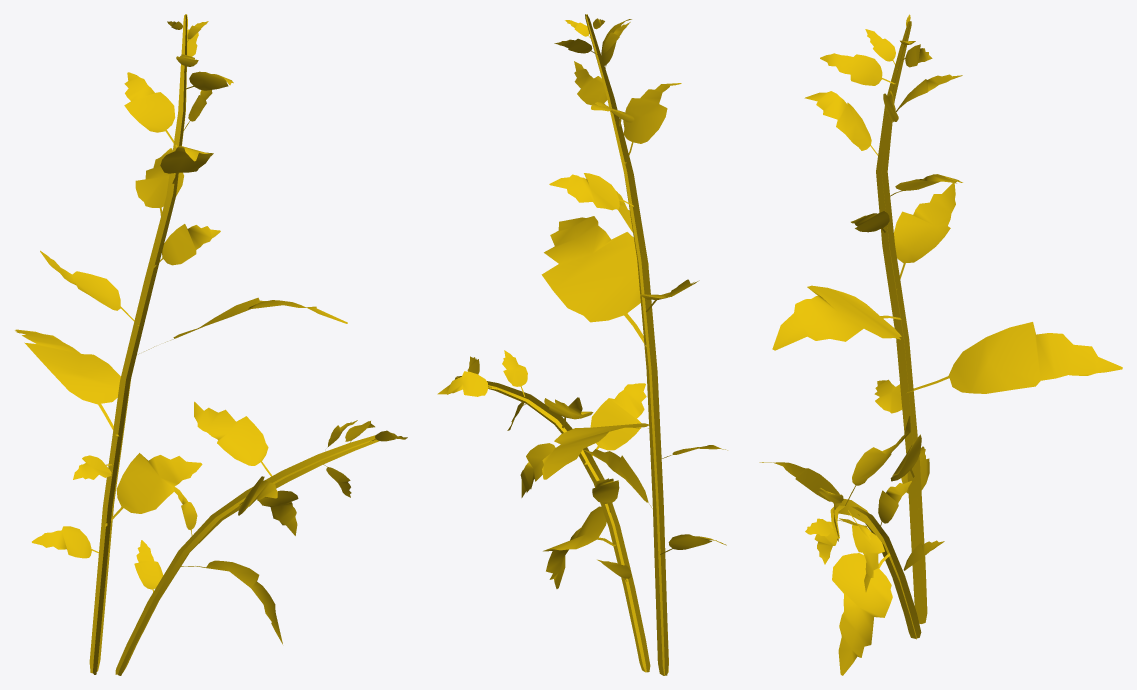
Rendered from PS_Level1_GenericPlant02.fbx.
3 views of the same model, side by side, from view 1: azimuth 30°, elevation 25°; view 2: azimuth 150°, elevation 25°; view 3: azimuth 270°, elevation 25° (orthographic).
Visible parts, largest first — view 1: PS_Level1_GenericPlant2_LOD0; view 2: PS_Level1_GenericPlant2_LOD0; view 3: PS_Level1_GenericPlant2_LOD0.
Boxes of the visible parts, left/top/right/bottom form: PS_Level1_GenericPlant2_LOD0: left=15, top=14, right=407, bottom=675; PS_Level1_GenericPlant2_LOD0: left=437, top=14, right=727, bottom=675; PS_Level1_GenericPlant2_LOD0: left=759, top=14, right=1122, bottom=675.
Size of what is drawn, in the model's own units: 9.35 by 18.16 by 9.22.
